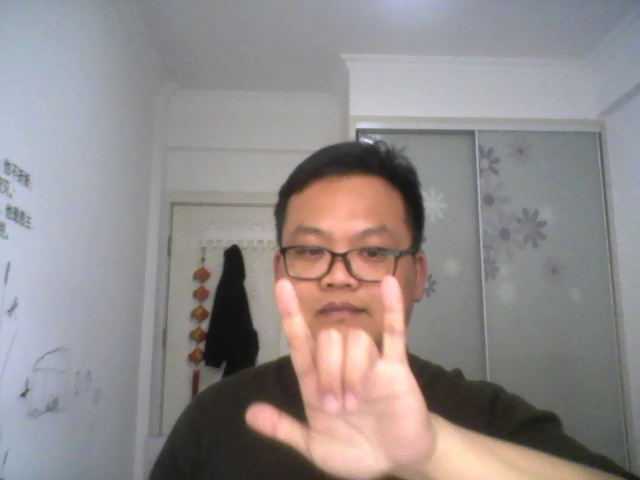I Love You: (232, 273, 450, 480)
